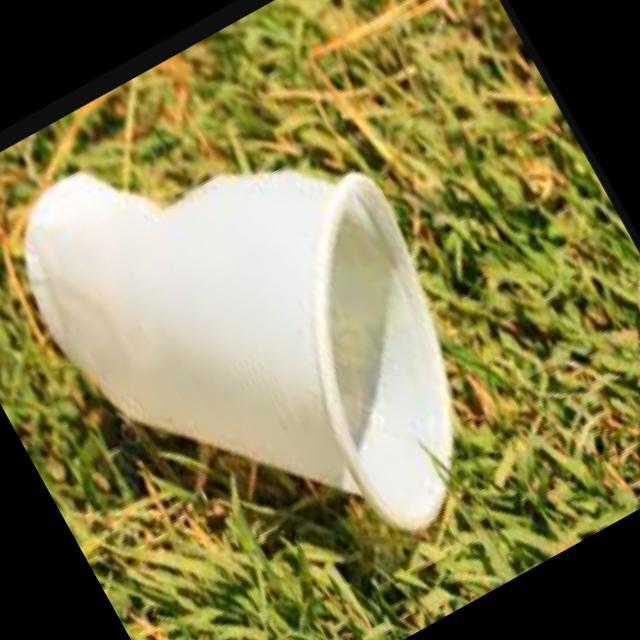GelasPlastik: (0, 42, 538, 640)
